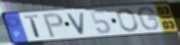5: (89, 9, 112, 35)
G: (137, 6, 161, 31)
O: (116, 8, 140, 33)
P: (42, 12, 65, 39)
T: (23, 14, 42, 39)
V: (66, 11, 87, 36)
